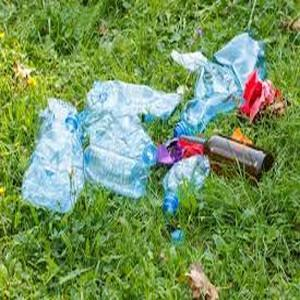Plastic: (173, 32, 263, 136), (21, 111, 82, 213), (85, 145, 153, 199), (162, 155, 211, 219)
